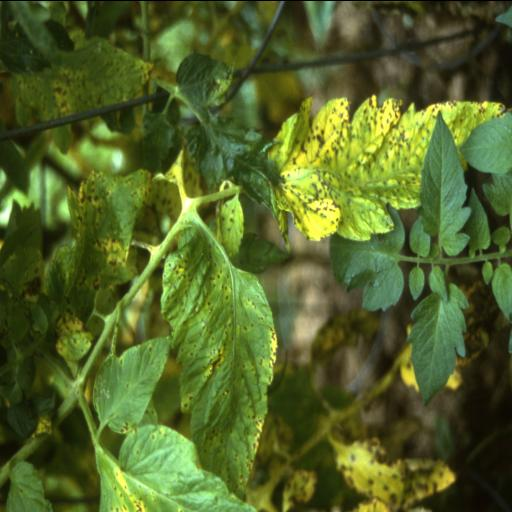disease_tomato: (266, 91, 502, 247), (158, 217, 279, 495), (41, 166, 154, 314), (96, 420, 256, 512), (4, 28, 158, 120), (332, 434, 456, 512), (92, 334, 178, 436)
